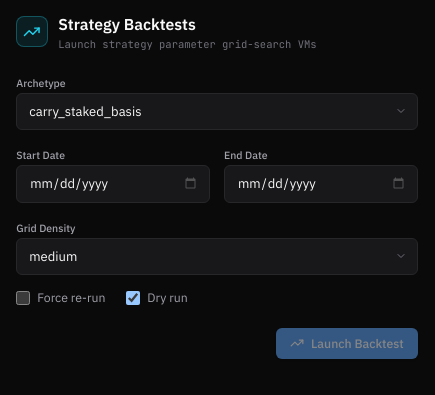
Test case: StrategyBacktests › shows inline error when end date is before start date
Step 1. Type "2026-03-01" into the date field with test id "start-date-input" → point(113, 184), box [16, 165, 210, 202]
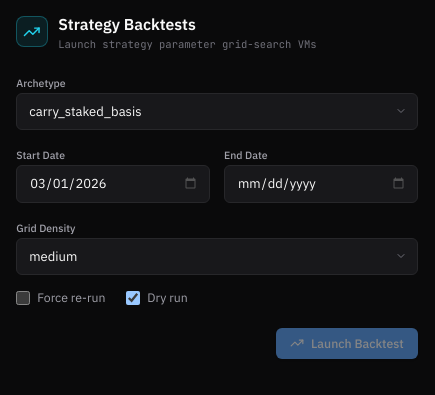
Step 2. Type "2026-01-01" into the date field with test id "end-date-input" → point(321, 184), box [224, 165, 418, 202]
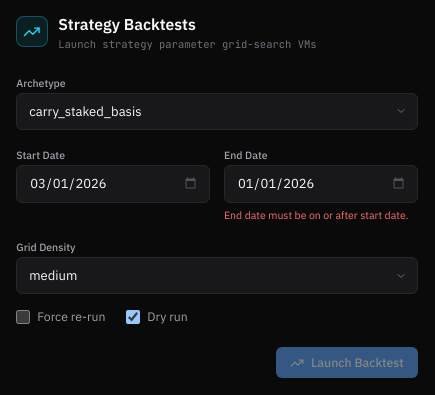
Expected: the text "End date must be on or after start date." is shown, [224, 208, 418, 222]
